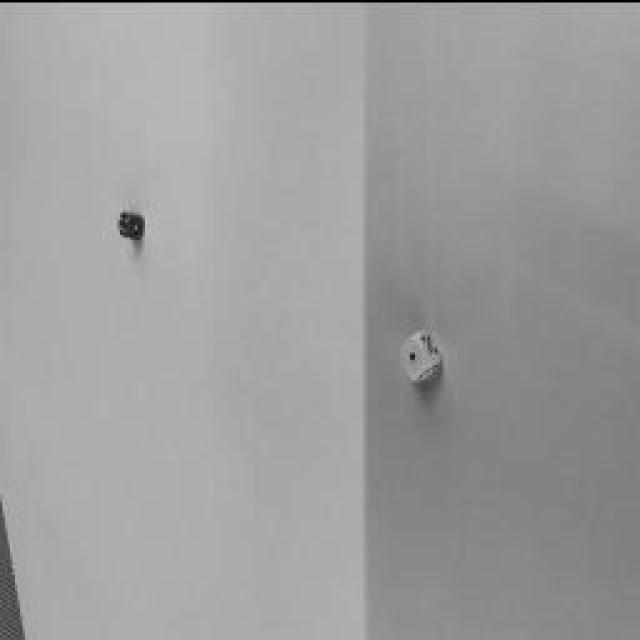dice_1: (400, 335, 428, 375)
dice_4: (119, 208, 129, 234)
